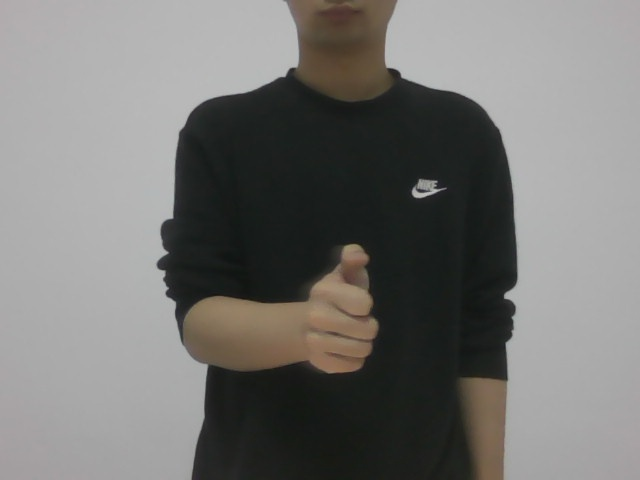thank you: (287, 243, 392, 366)
